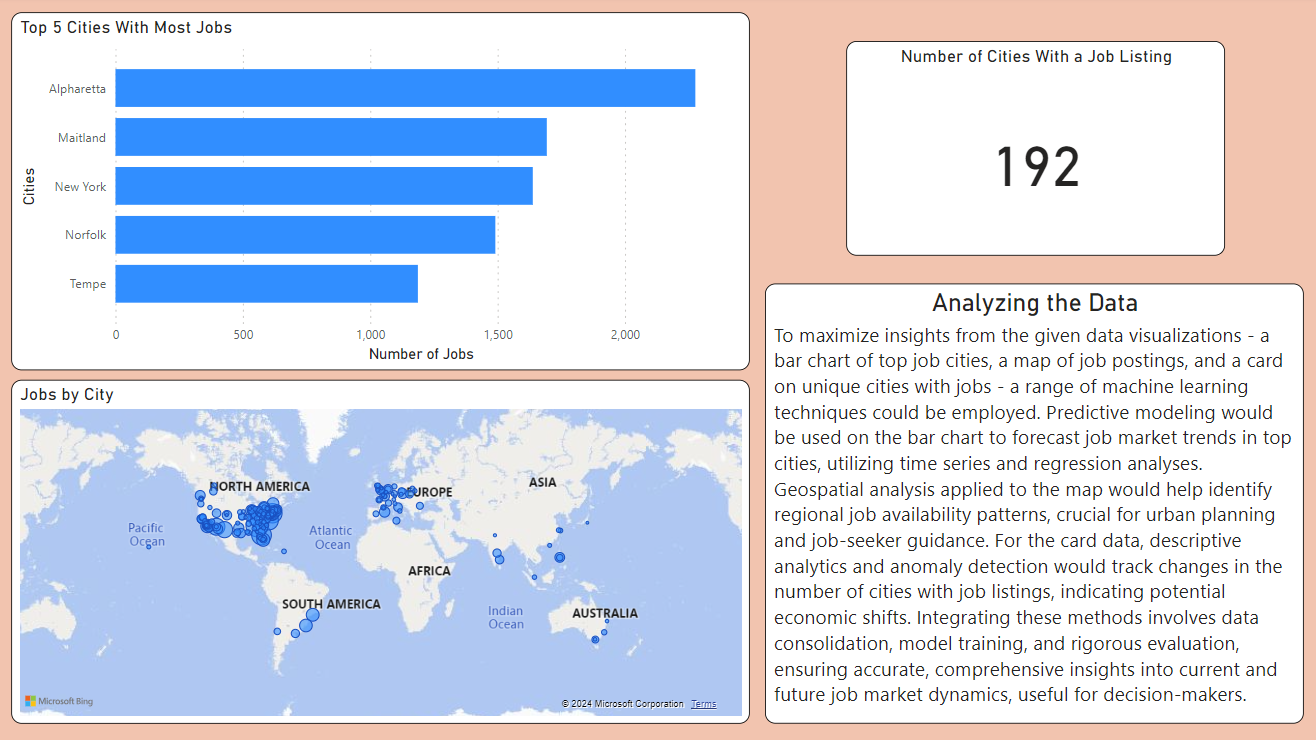

This screenshot's page, from the dashboard's own definition file:
{"tool":"powerbi","page":{"name":"City","canvas":[1280,720],"ordinal":0},"visuals":[{"type":"clusteredBarChart","title":"Top 5 Cities With Most Jobs","fields":{"Category":["Job Cloud Output.City"],"Y":["CountNonNull(Job Cloud Output.Title)"]},"box":[20.6,15.1,712.9,345.5],"z":0},{"type":"map","title":"Jobs by City","fields":{"Size":["CountNonNull(Job Cloud Output.Title)"],"Category":["Job Cloud Output.City"]},"box":[20.6,370.2,712.9,331.8],"z":1000},{"type":"card","title":"Number of Cities With a Job Listing","fields":{"Values":["Count(Job Cloud Output.City)"]},"box":[826.1,43.4,365.4,207.4],"z":2000},{"type":"textbox","title":"Analyzing the Data","box":[747.7,277.4,519.8,424.5],"z":2001}]}

Visuals, with their boxes in screenshot pixels (x1, y1, x2, y2), scaled from the page's 1280x720 canvas onto the 1316x740 screenshot:
"Top 5 Cities With Most Jobs" clusteredBarChart: crop(21, 16, 754, 371)
"Jobs by City" map: crop(21, 380, 754, 721)
"Number of Cities With a Job Listing" card: crop(849, 45, 1225, 258)
"Analyzing the Data" textbox: crop(769, 285, 1303, 721)
